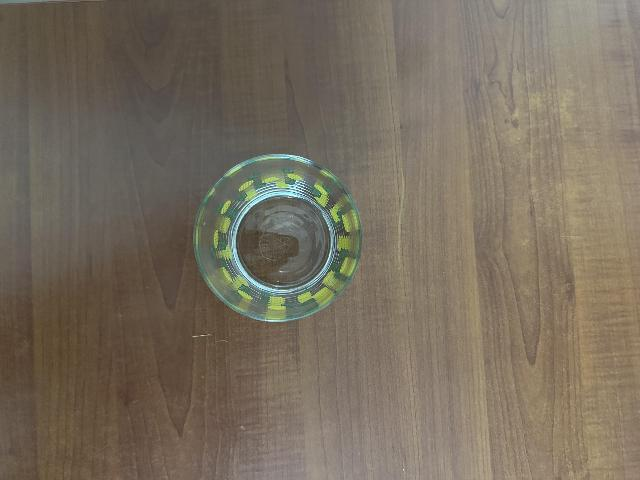Cam: (189, 148, 363, 324)
